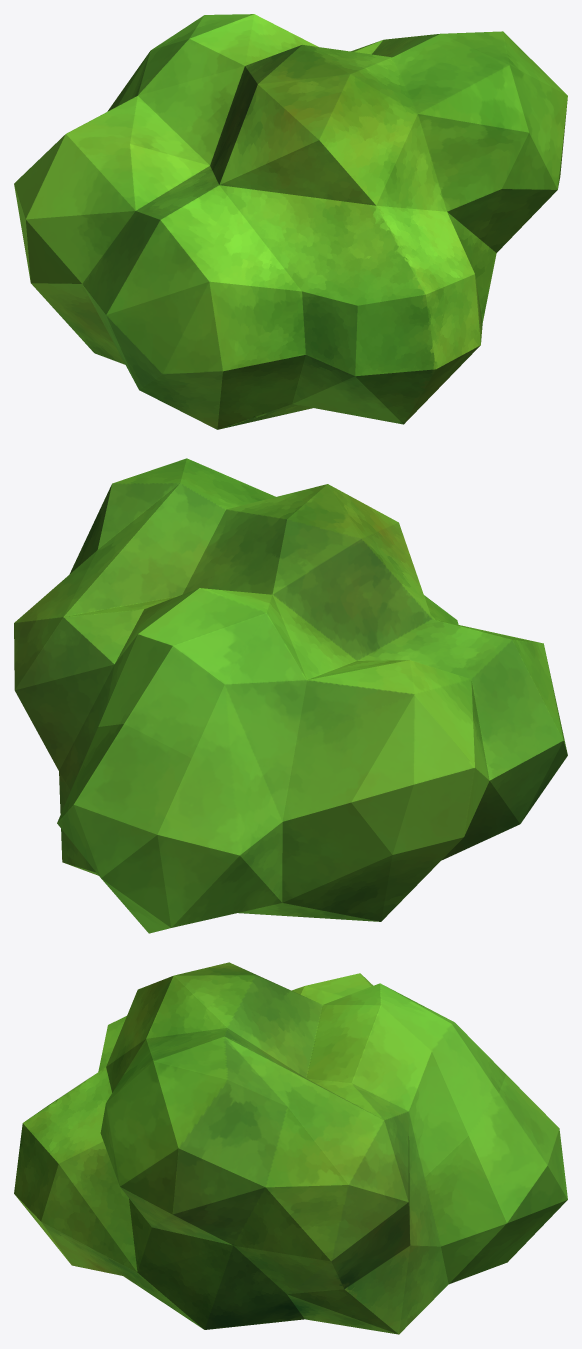
The model's file is Arbusto.fbx.
3 renders of one model, top to bottom at view 1: azimuth 30°, elevation 25°; view 2: azimuth 150°, elevation 25°; view 3: azimuth 270°, elevation 25°, orthographic. The views are drawn at different scales.
Parts seen in each view (by area): view 1: Arbusto; view 2: Arbusto; view 3: Arbusto.
Part boxes in pixels (x1,y1,x2,y2): Arbusto: [14, 14, 567, 429]; Arbusto: [14, 458, 567, 933]; Arbusto: [14, 962, 567, 1334].
Bounding box in the file's own units: 500 × 330 × 560.
Materials: 1 (1 with a texture image).
